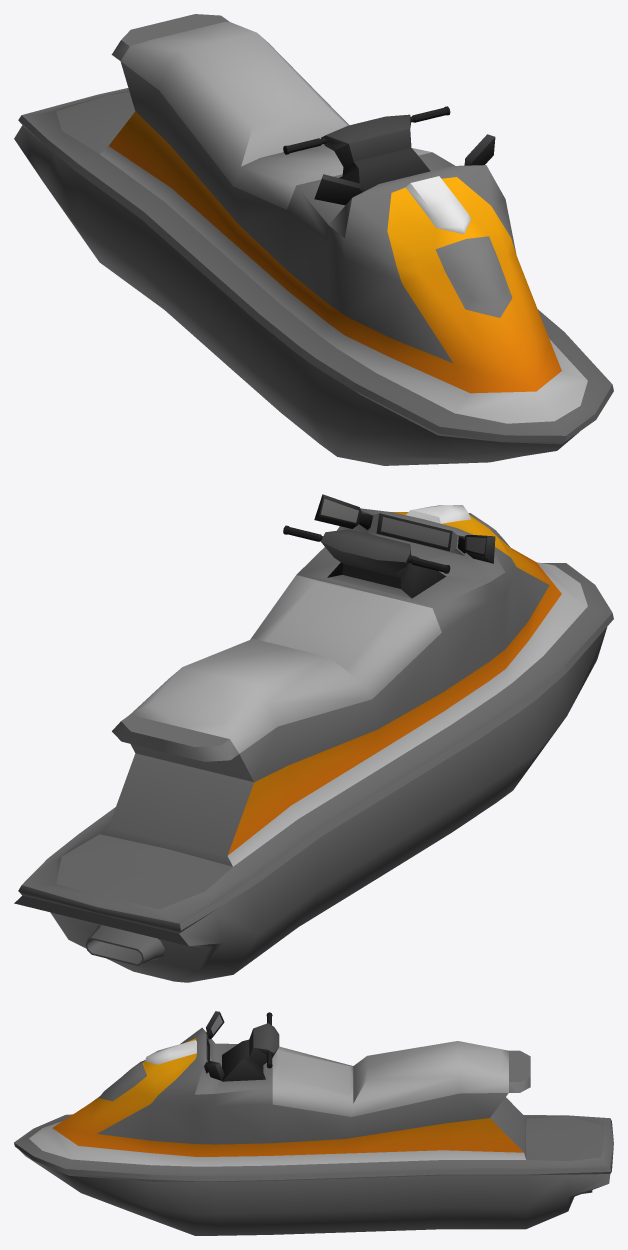
Rendered from jet ski.fbx.
3 renders of one model, top to bottom at view 1: azimuth 30°, elevation 25°; view 2: azimuth 150°, elevation 25°; view 3: azimuth 270°, elevation 25°, orthographic. The views are drawn at different scales.
Visible parts, largest first — view 1: jet_ski; view 2: jet_ski; view 3: jet_ski.
Boxes of the visible parts, bbox=[...] form: jet_ski: bbox=[14, 14, 613, 465]; jet_ski: bbox=[14, 494, 613, 982]; jet_ski: bbox=[14, 1011, 613, 1235].
Size of the model in its own units: 95.93 by 118 by 344.
1 material, 1 textured.
